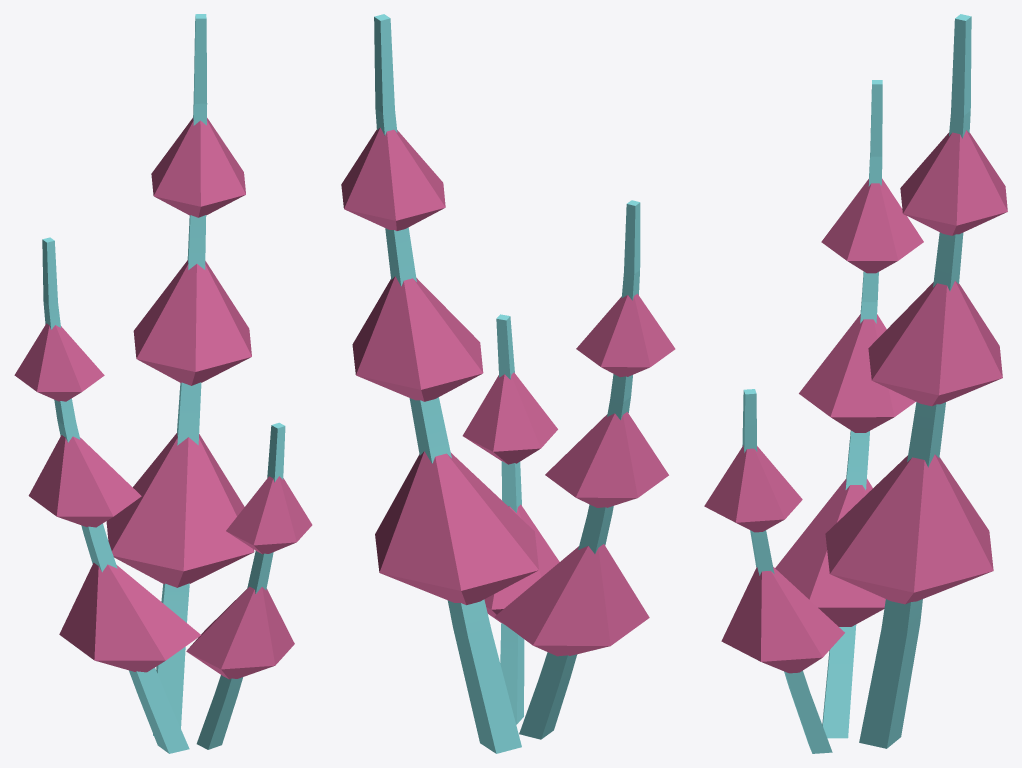
File: scifi_scifi-plant-baggy-big.fbx
3 renders of one model, left to right at view 1: azimuth 30°, elevation 25°; view 2: azimuth 150°, elevation 25°; view 3: azimuth 270°, elevation 25°, orthographic. The views are drawn at different scales.
Parts seen in each view (by area): view 1: scifi_scifi_plant_baggy_big; view 2: scifi_scifi_plant_baggy_big; view 3: scifi_scifi_plant_baggy_big.
Part boxes in pixels (x1,y1,x2,y2): scifi_scifi_plant_baggy_big: (14,14,312,753); scifi_scifi_plant_baggy_big: (341,14,675,753); scifi_scifi_plant_baggy_big: (704,14,1007,753).
Bounding box in the file's own units: 79.78 × 200 × 72.26.
